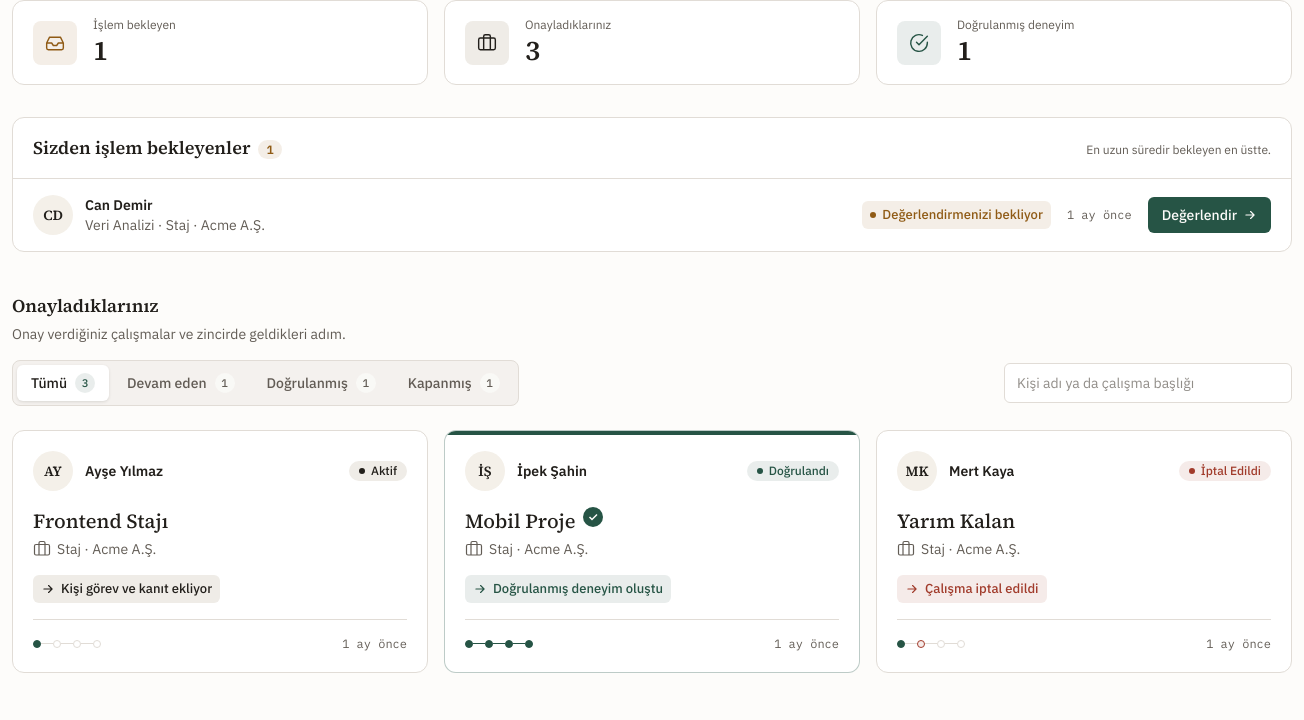
it: ReviewView (kurum/kuruluş çalışma listesi) › arama öğrenci adına ve başlığa göre süzer; sonuç yoksa bunu söyler
Step 1. Type "ipek" into the search field named "Kişi ya da çalışma ara" → {"x": 1148, "y": 383}, box [1004,363,1292,403]
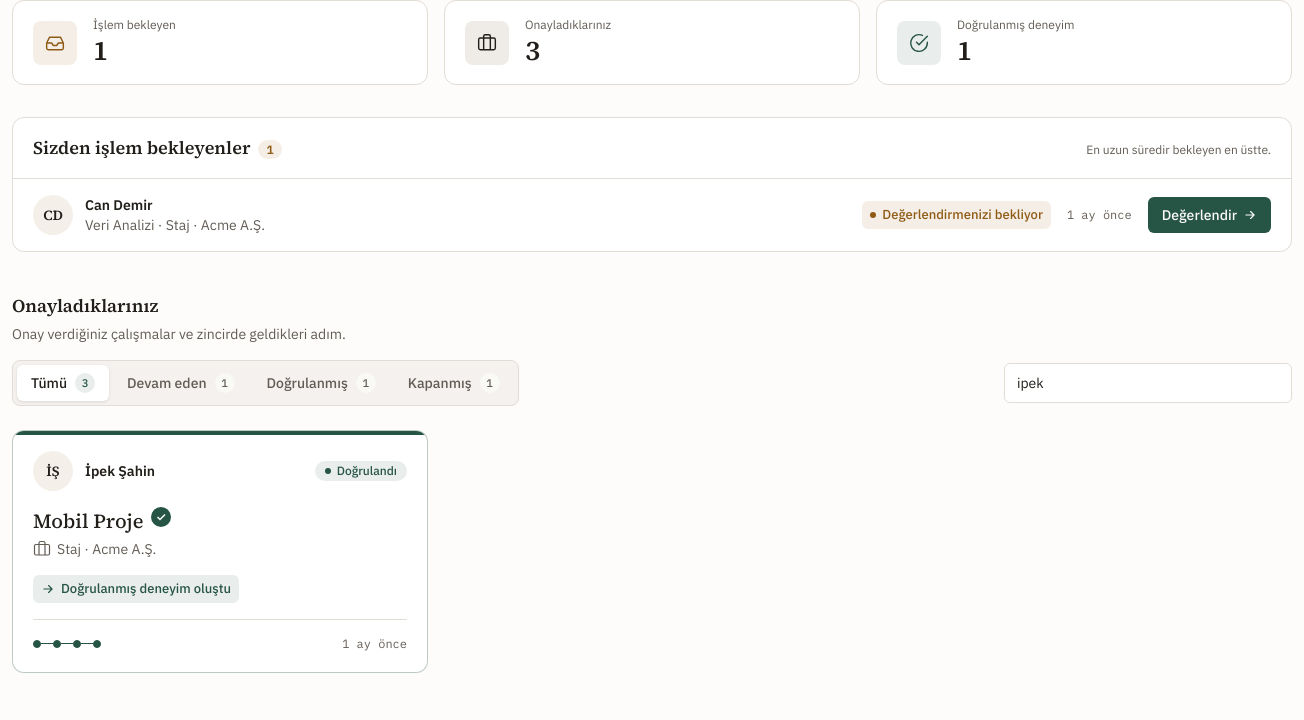
Expected: the heading "Mobil Proje" is shown, [33,507,144,535]
Step 2. Replace the text in the search field named "Kişi ya da çalışma ara" with "frontend" → {"x": 1148, "y": 383}, box [1004,363,1292,403]
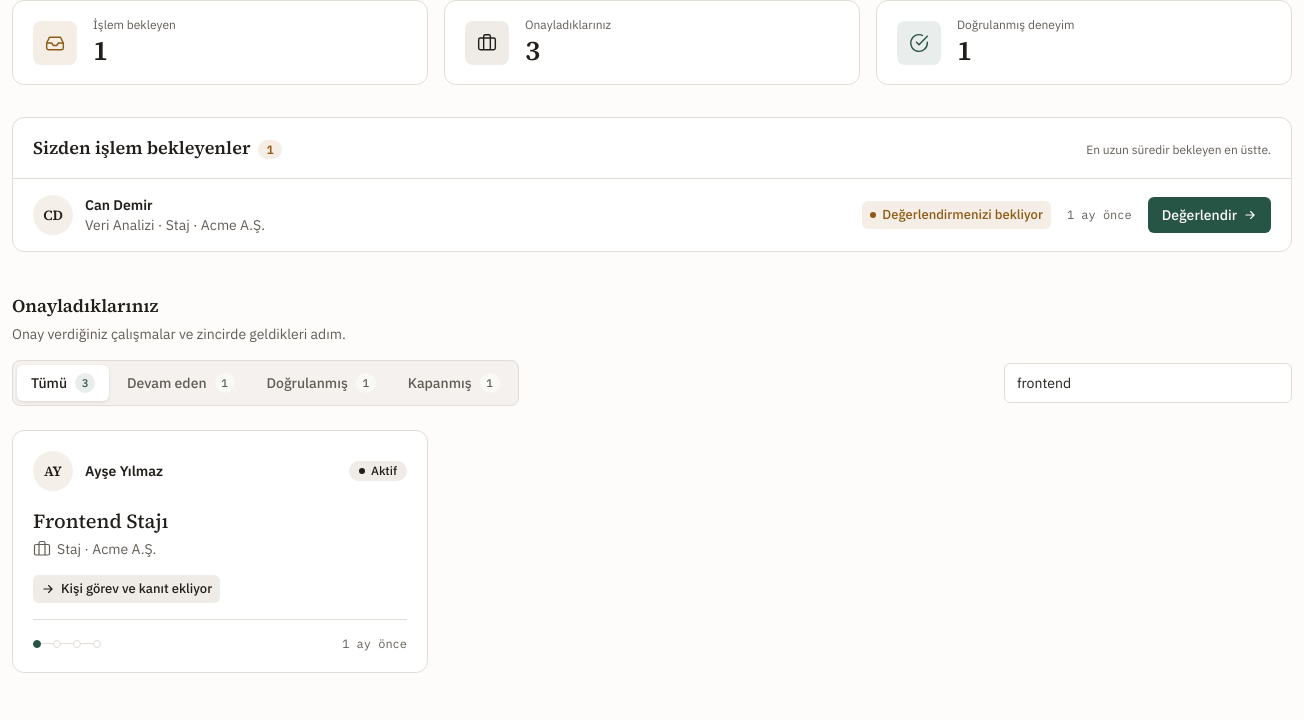
Expected: the text "Ayşe Yılmaz" is shown, [85,461,163,481]
Step 3. Replace the text in the search field named "Kişi ya da çalışma ara" with "olmayan" → {"x": 1148, "y": 383}, box [1004,363,1292,403]
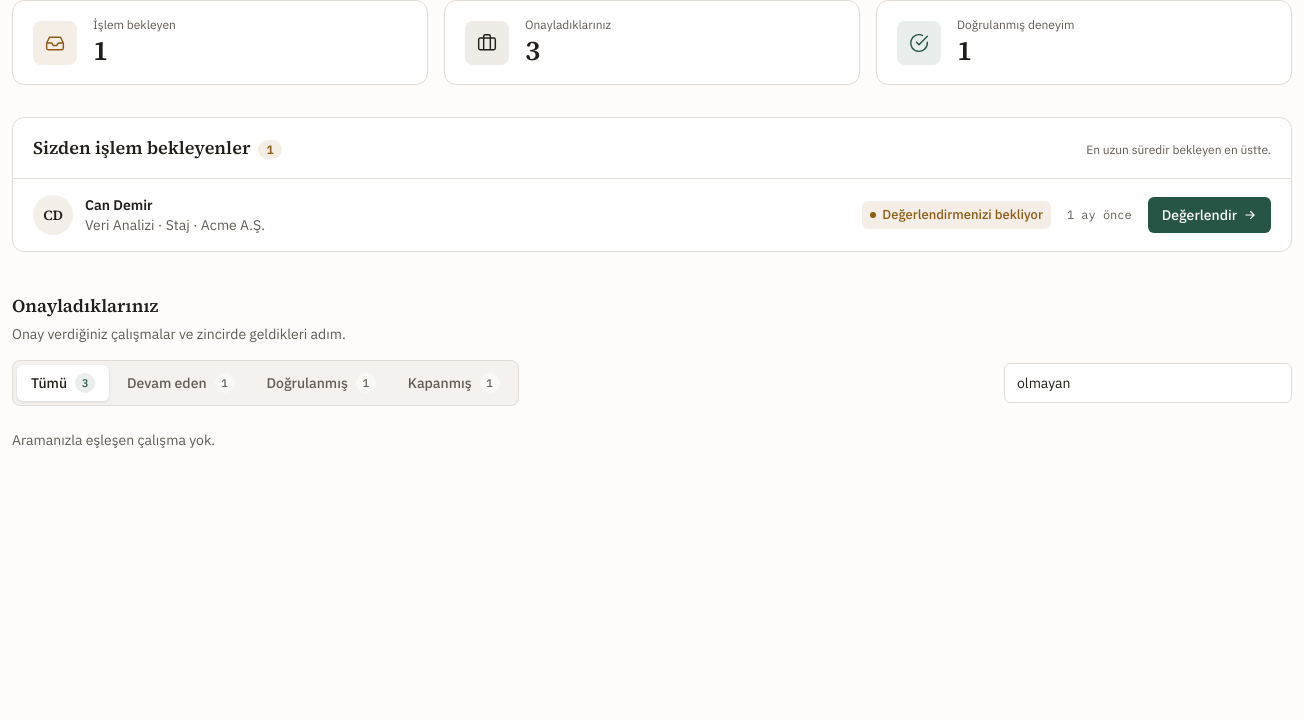
Expected: the link with test id "review-approved-card" is gone
Expected: the text "Aramanızla eşleşen çalışma yok." is shown, [12,431,215,449]
